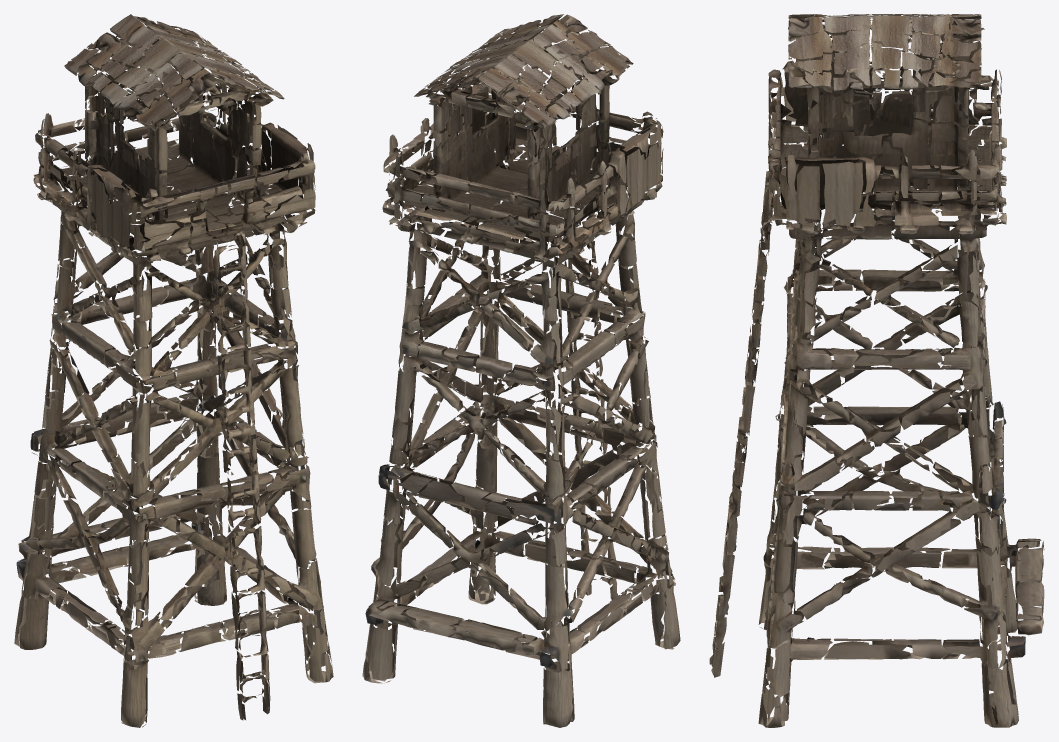
File: wachturm.glb
3 renders of one model, left to right at view 1: azimuth 30°, elevation 25°; view 2: azimuth 150°, elevation 25°; view 3: azimuth 270°, elevation 25°, orthographic. The views are drawn at different scales.
Bounding box in the file's own units: 0.6722 × 1.9 × 0.8729.
1 material, 1 textured.
